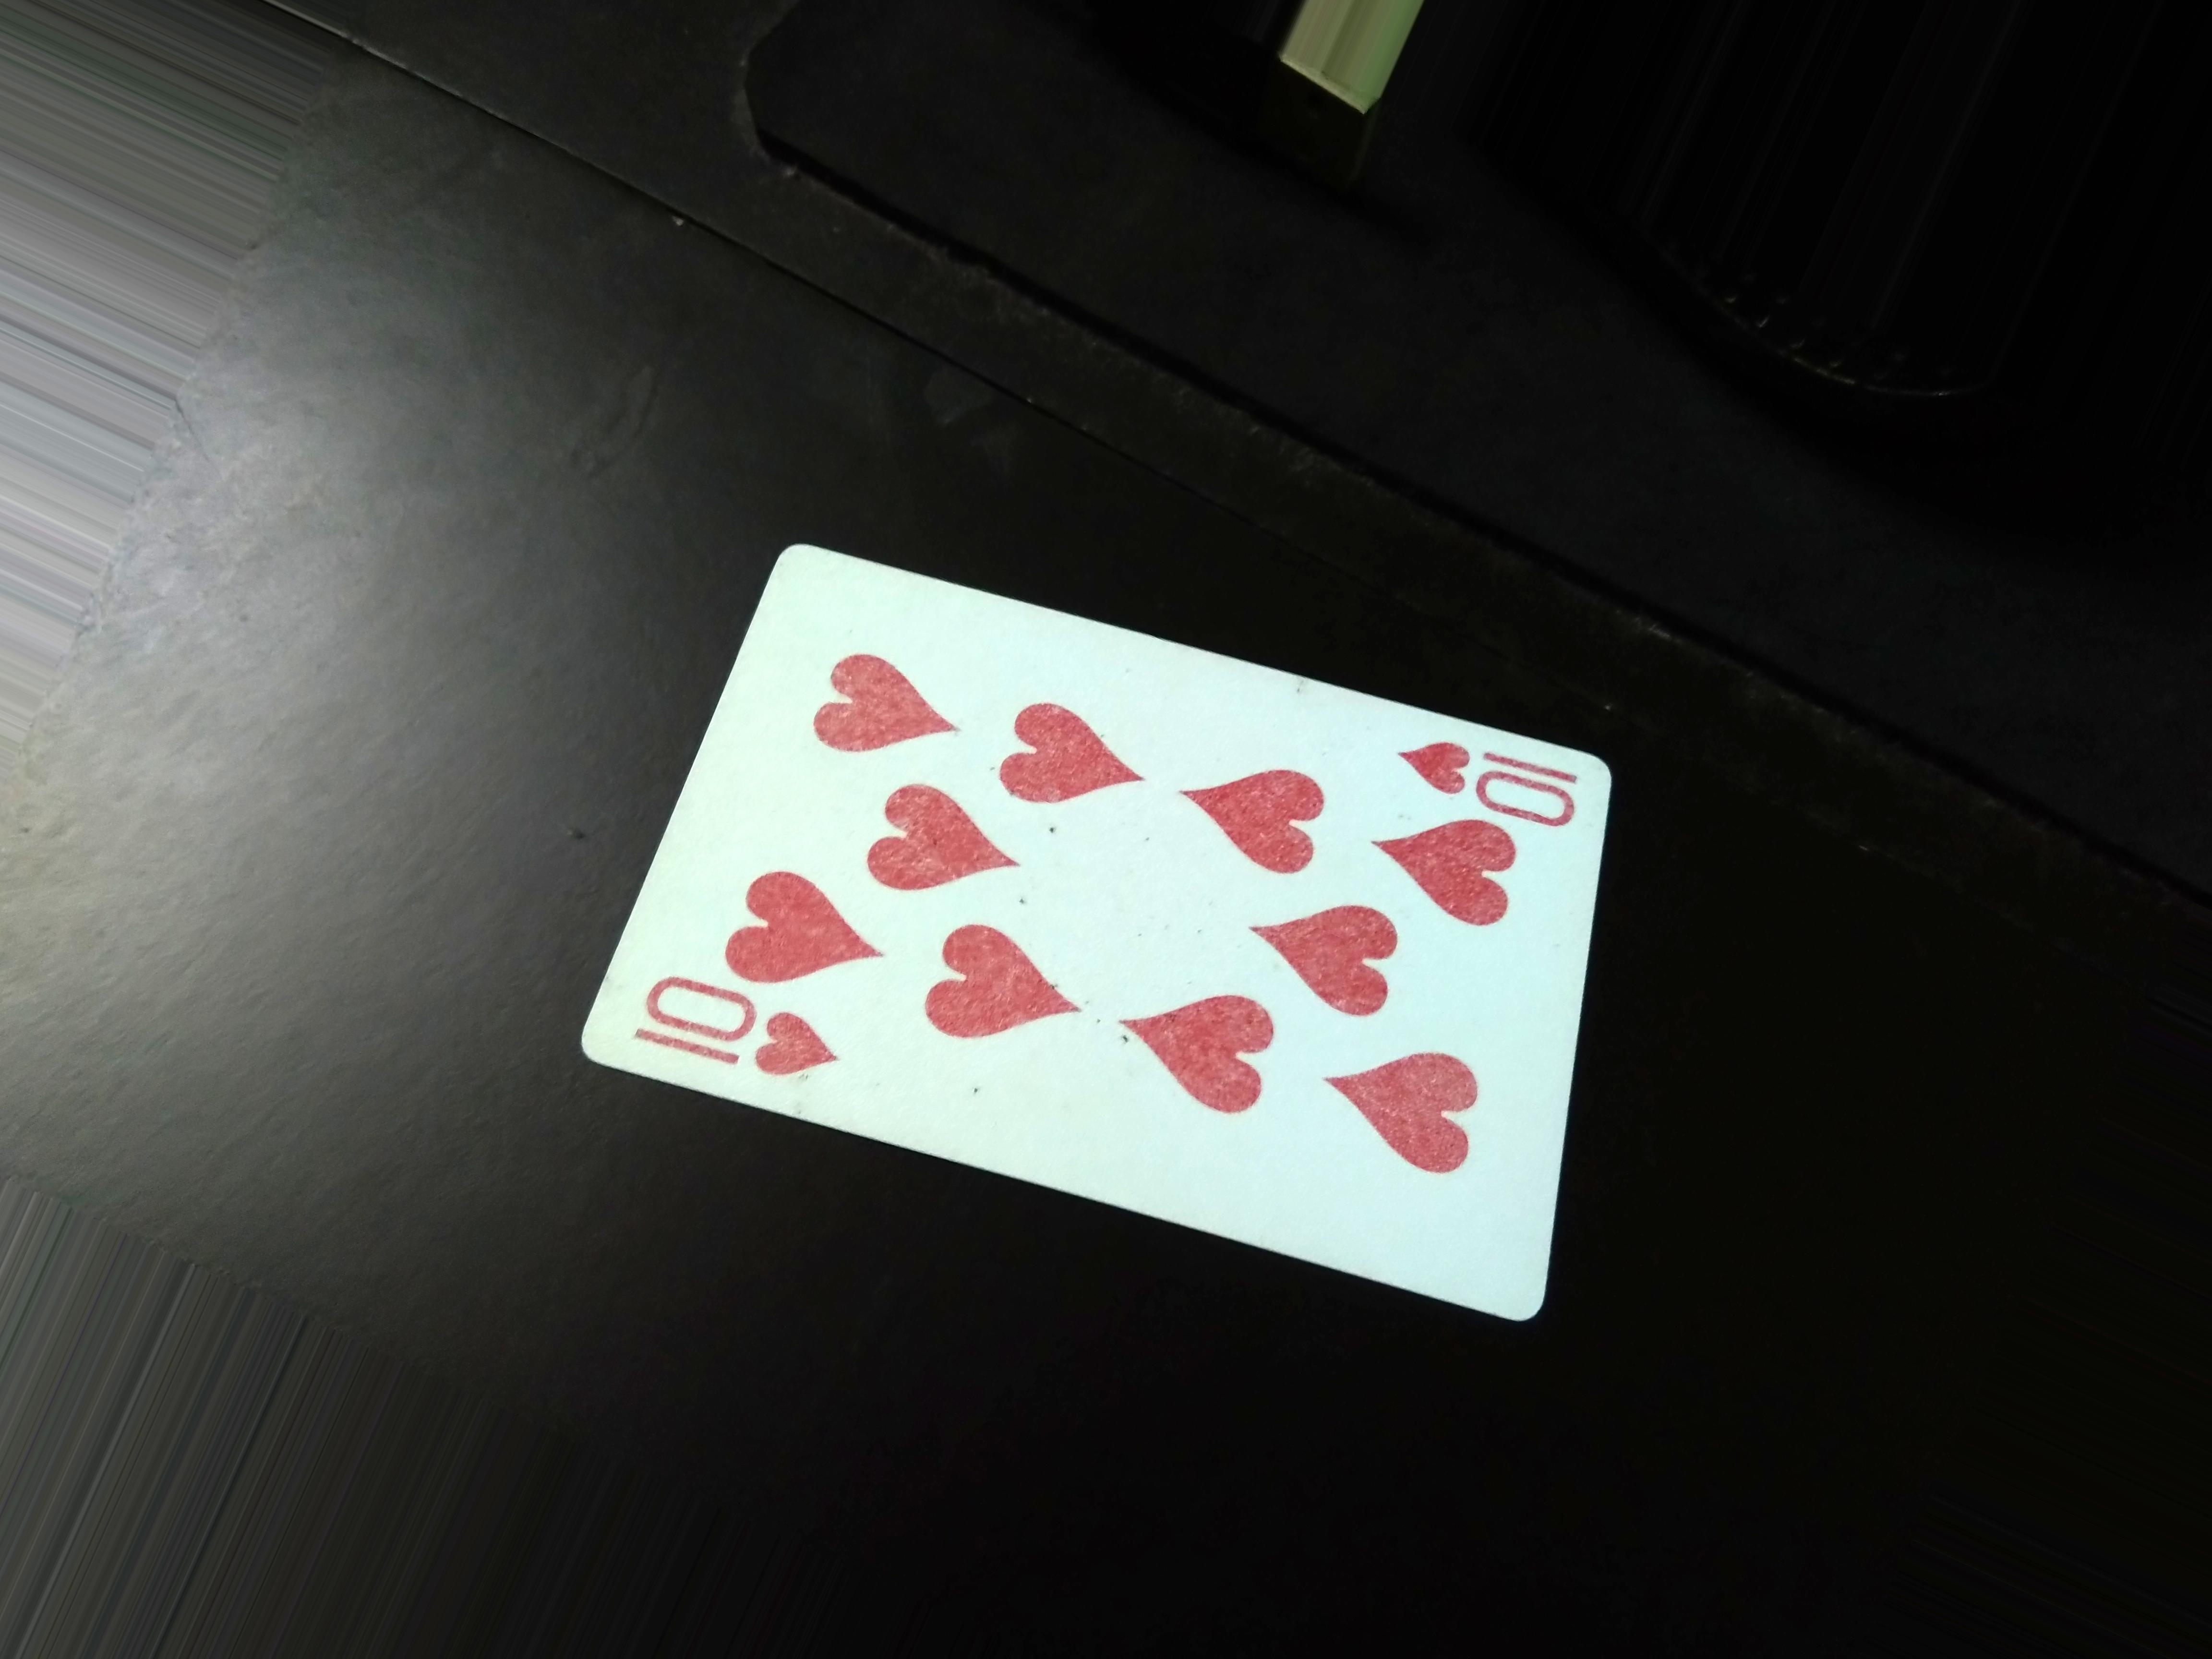10H: (625, 972, 878, 1122)
